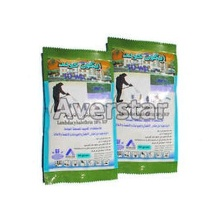insecticide: (95, 33, 180, 176), (37, 41, 120, 187)
